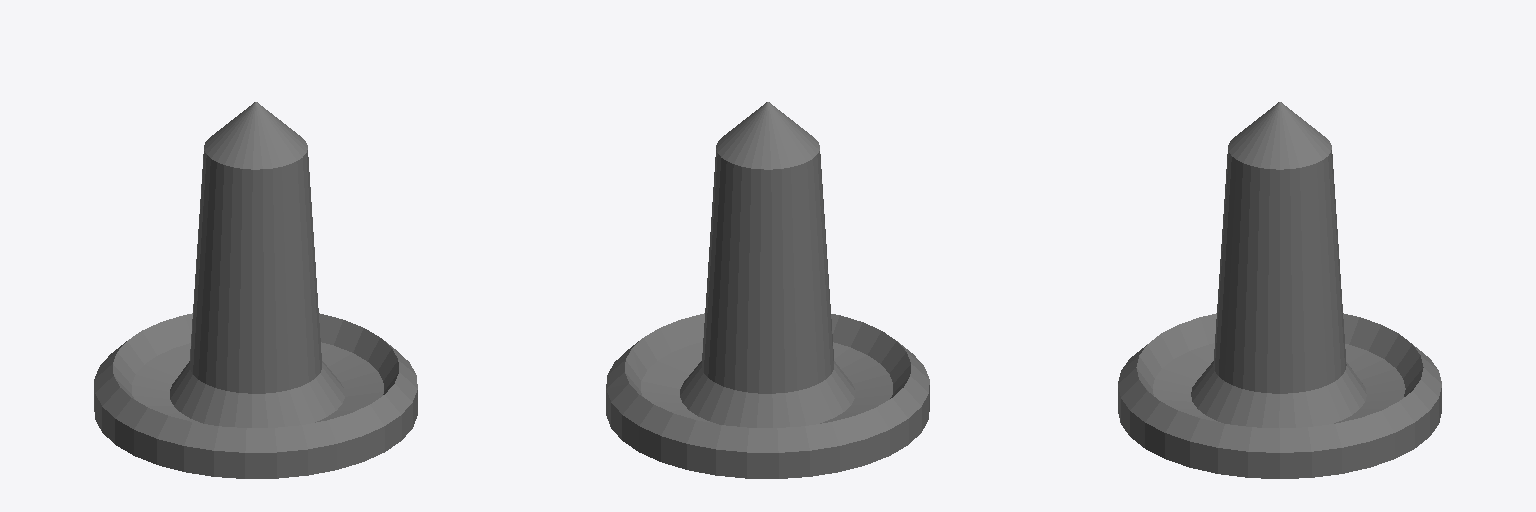
File: bat.obj
The picture shows the model from 3 angles: view 1: azimuth 30°, elevation 25°; view 2: azimuth 150°, elevation 25°; view 3: azimuth 270°, elevation 25°; orthographic projection.
Parts seen in each view (by area): view 1: Sphere; view 2: Sphere; view 3: Sphere.
Part boxes in pixels (bbox=[...]): Sphere: bbox=[94, 102, 417, 478]; Sphere: bbox=[606, 102, 929, 478]; Sphere: bbox=[1118, 102, 1441, 478].
Bounding box in the file's own units: 2 × 2.1 × 2.